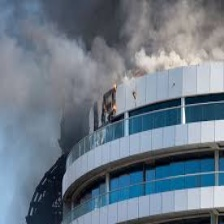smoke: (48, 1, 107, 140), (120, 3, 223, 67)
